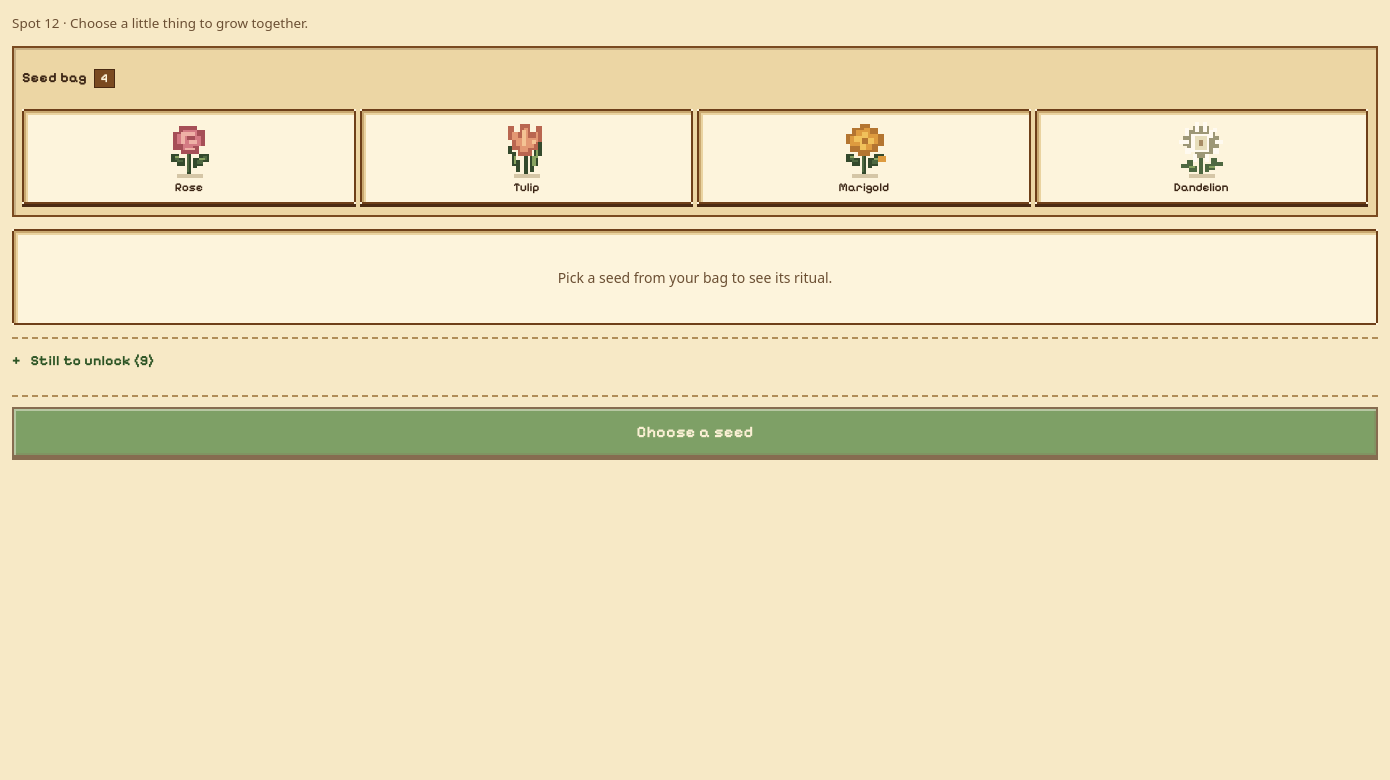
Scenario: requires a shared wish before planting a Dandelion and retains it on failure
Step 1. Click the button "Dandelion" → {"x": 1201, "y": 156}, box [1034,109,1368,204]
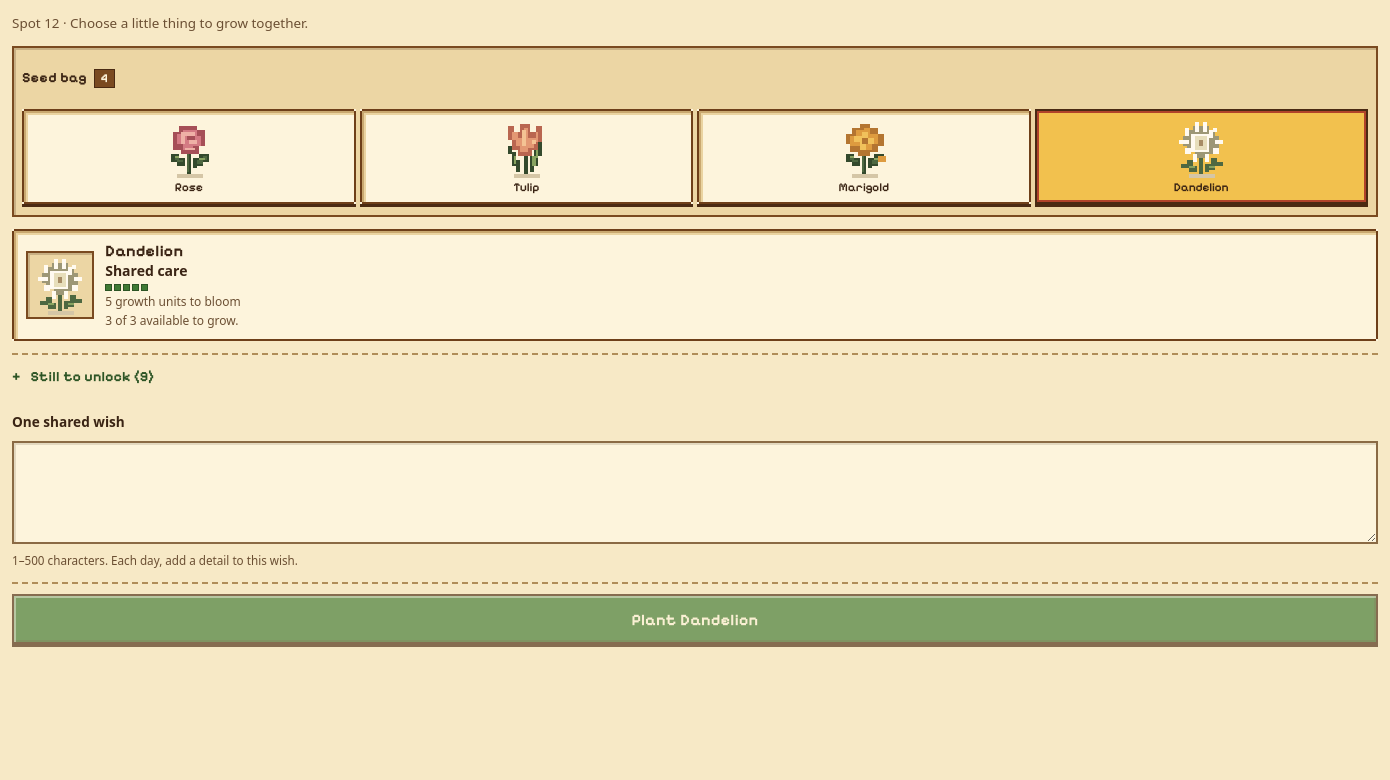
Expected: the button "Plant Dandelion" is disabled, [12,594,1378,644]
Step 2. Type "See a new place" into the text box labelled "One shared wish" → {"x": 695, "y": 492}, box [12,441,1378,544]
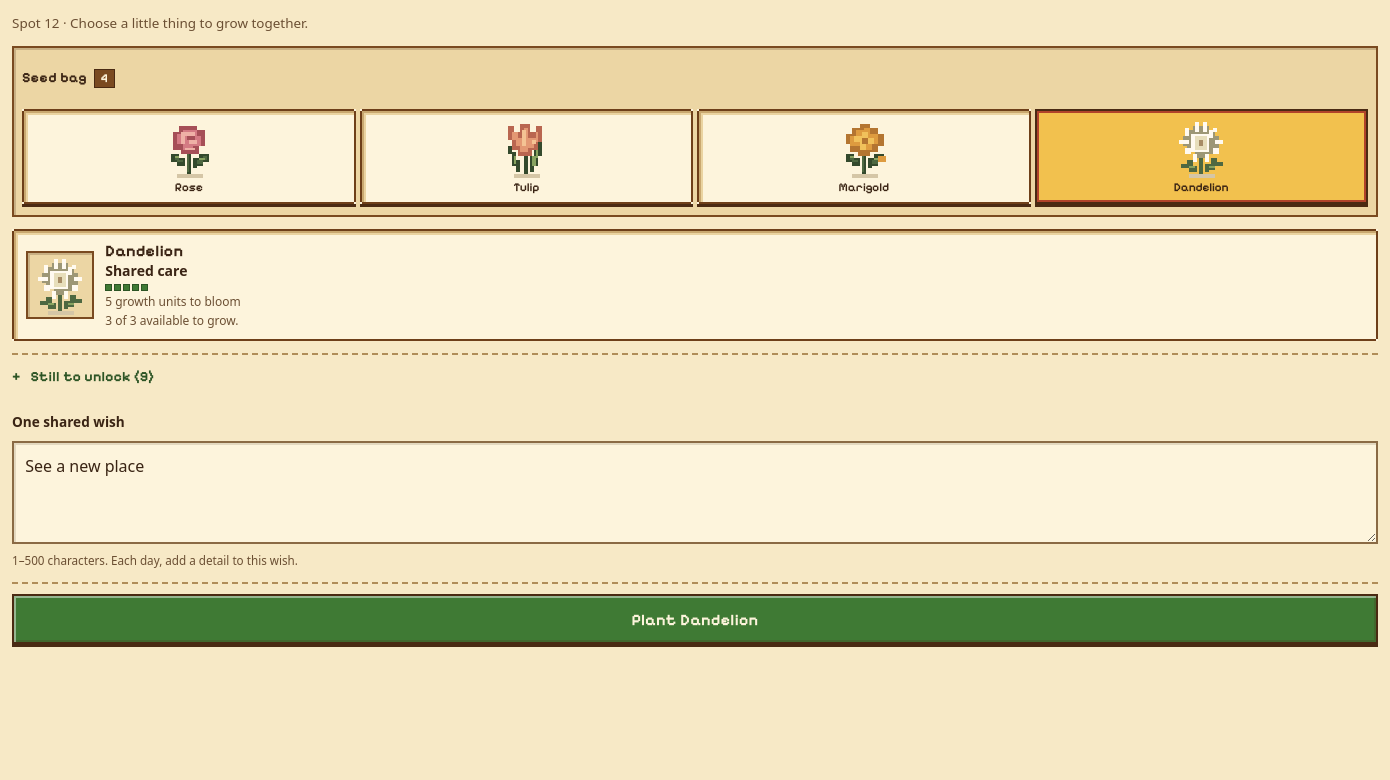
Step 3. Click the button "Plant Dandelion" → {"x": 695, "y": 619}, box [12,594,1378,644]
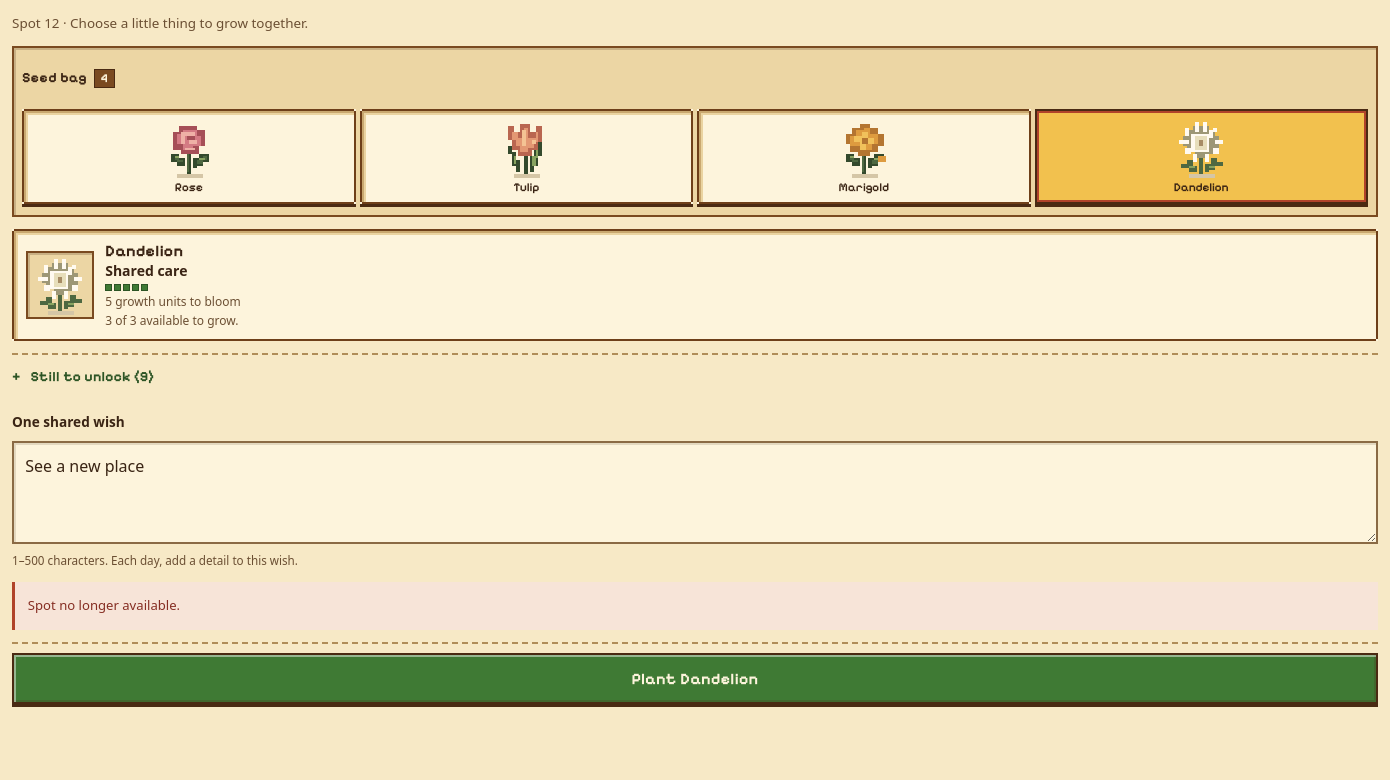
Expected: the message reads "Spot no longer available.", [28,596,180,614]
